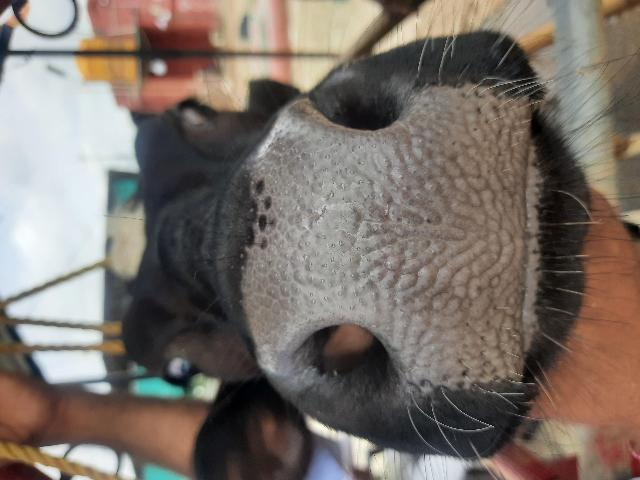Muzzle: (266, 141, 520, 319)
